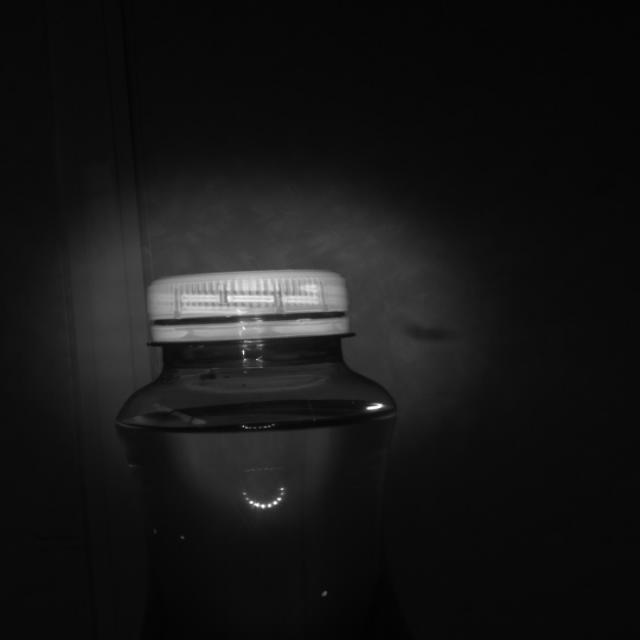Not Good: (148, 266, 350, 346)
